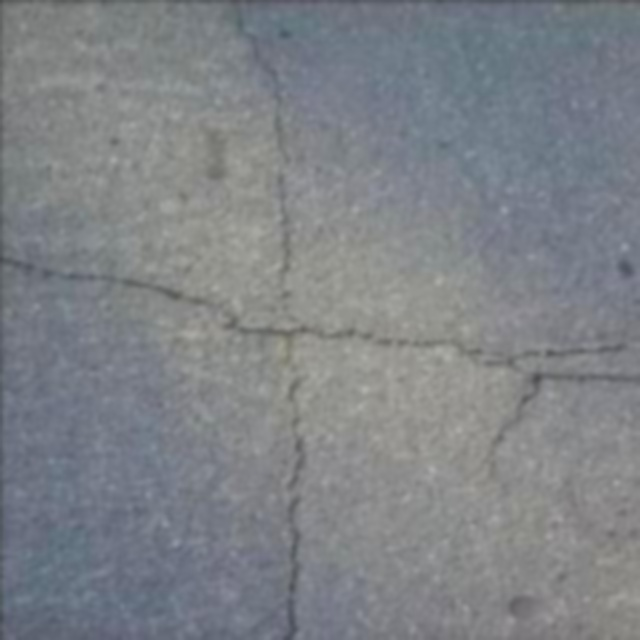SurfaceCrack: (238, 0, 342, 640)
